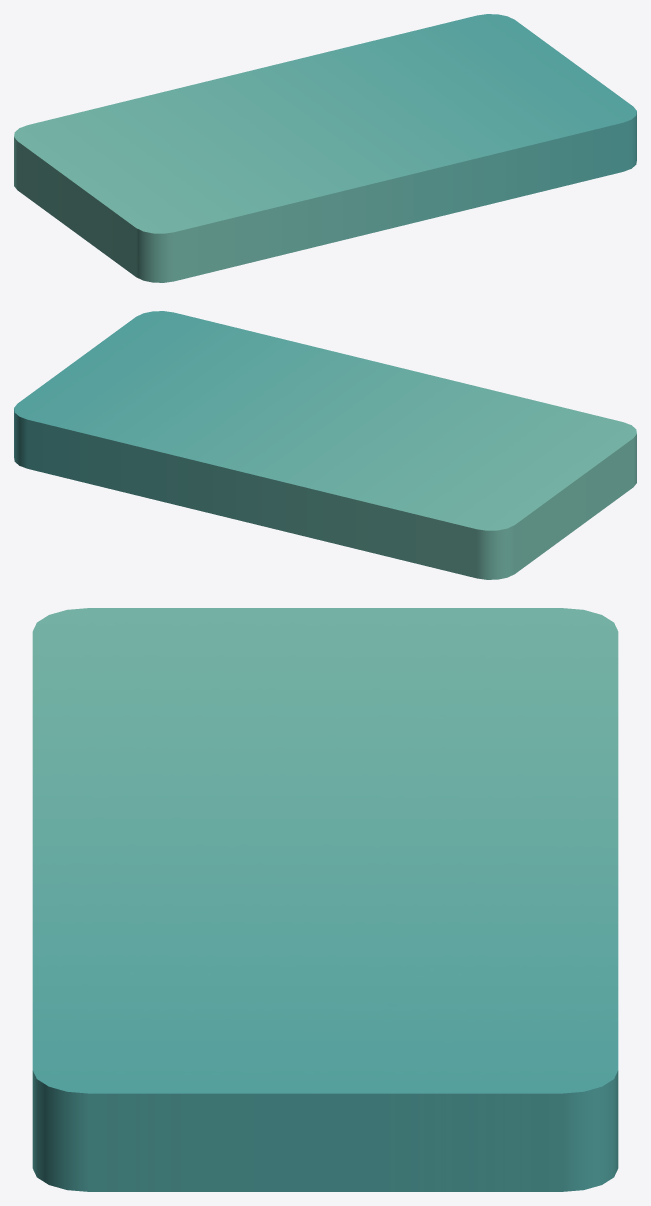
Rendered from PR_RectanglePlatformRounded.fbx.
The picture shows the model from 3 angles, top to bottom: view 1: azimuth 30°, elevation 25°; view 2: azimuth 150°, elevation 25°; view 3: azimuth 270°, elevation 25°; orthographic projection. The views are drawn at different scales.
Parts seen in each view (by area): view 1: PR_RectanglePlatformRounded; view 2: PR_RectanglePlatformRounded; view 3: PR_RectanglePlatformRounded.
Boxes of the visible parts, x1,y1,x2,y2 form: PR_RectanglePlatformRounded: (14, 14, 636, 282); PR_RectanglePlatformRounded: (14, 311, 636, 579); PR_RectanglePlatformRounded: (32, 608, 618, 1191).
Bounding box in the file's own units: 362 × 34.21 × 185.
Materials: 1 (1 with a texture image).
